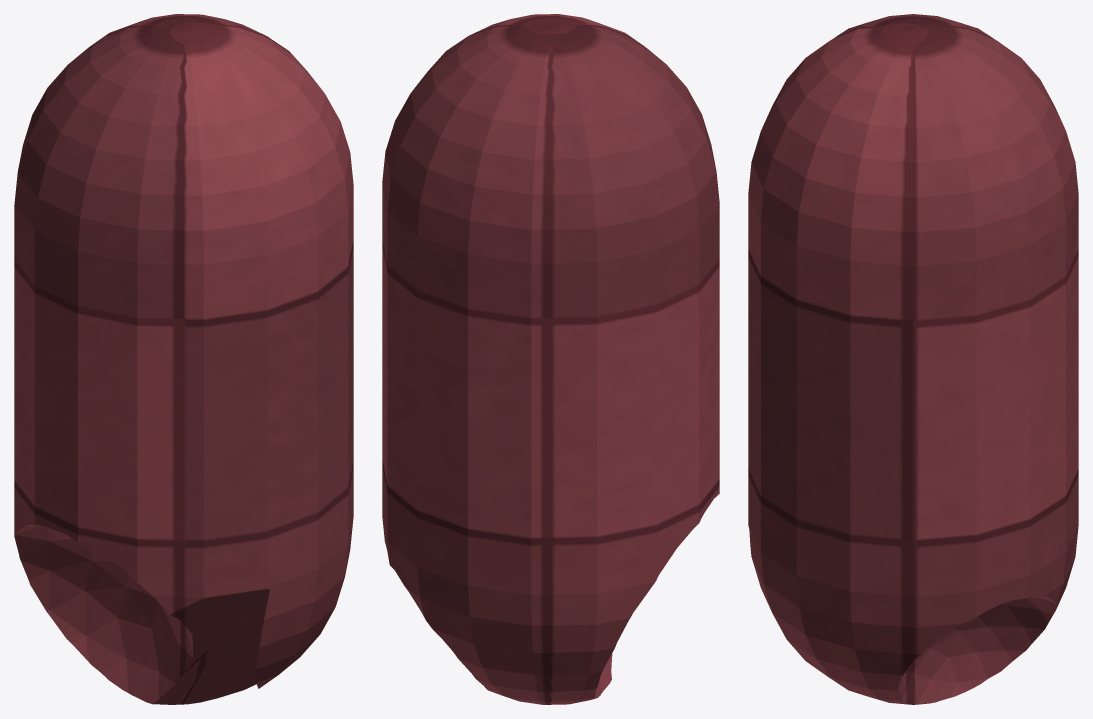
The picture shows the model from 3 angles, left to right: view 1: azimuth 30°, elevation 25°; view 2: azimuth 150°, elevation 25°; view 3: azimuth 270°, elevation 25°; orthographic projection.
Parts seen in each view (by area): view 1: geometry_0; view 2: geometry_0; view 3: geometry_0.
Boxes of the visible parts, x1=… form: geometry_0: x1=14, y1=14, x2=353, y2=704; geometry_0: x1=382, y1=14, x2=719, y2=704; geometry_0: x1=748, y1=14, x2=1078, y2=704.
Size of the model in its own units: 1.06 by 2.26 by 1.02.
Materials: 1 (1 with a texture image).
